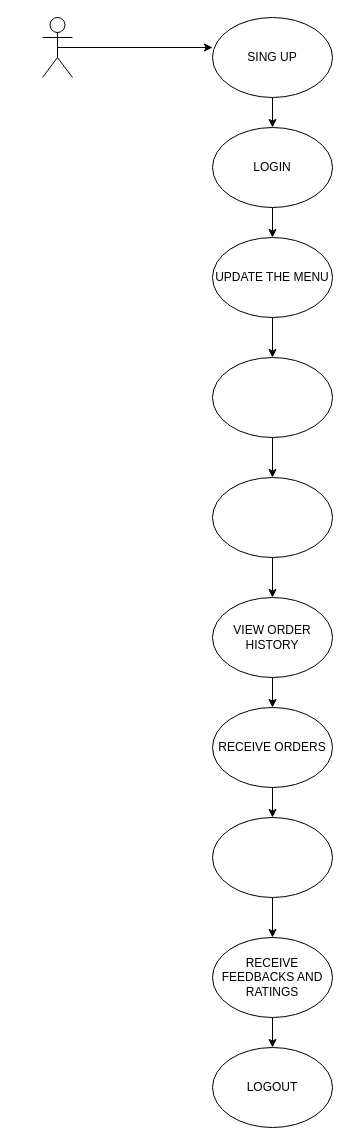
Some shapes in this 350 by 1145 pixel diagram are drawn without their labels. The shapes that lost their labels are listed below. From the top down, each one's centre as x and y in pixels, then its label:
At [57,47]: "HOTEL ADMIN".
At [272,397]: "SEE SALES AND BENEFITS".
At [272,517]: "SENT NOTIFICATION".
At [272,857]: "RECEIVE PAYMENTS / PAYMENT DETAILS".
